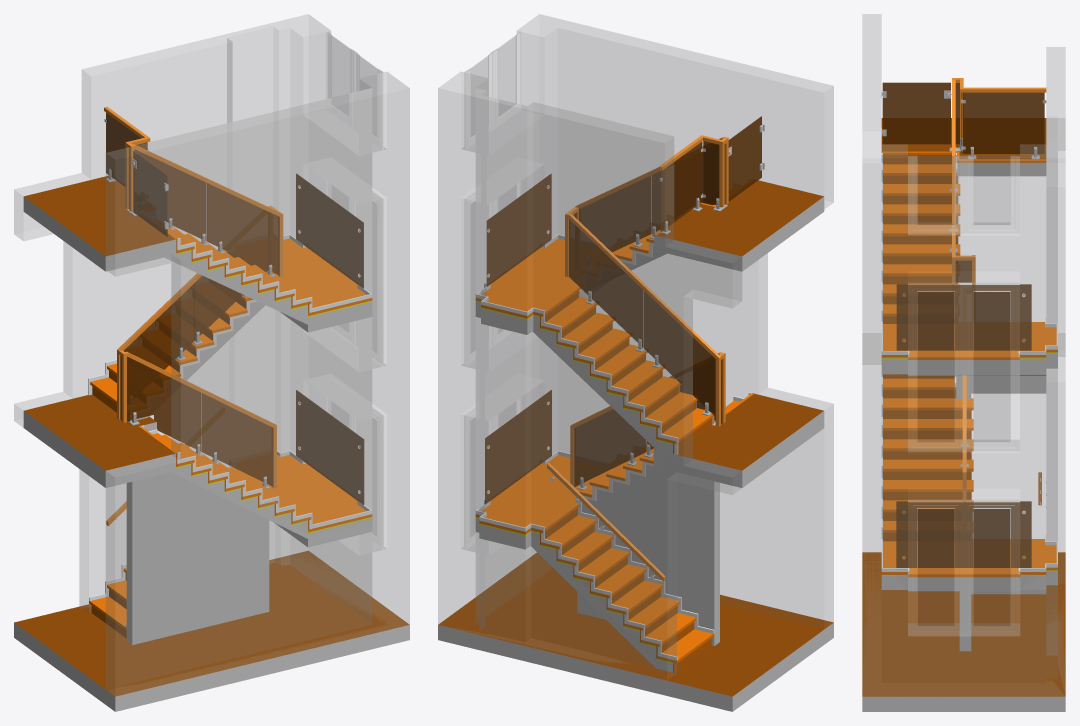
The model's file is 3D Сборка 1.obj.
3 views of the same model, side by side, from view 1: azimuth 30°, elevation 25°; view 2: azimuth 150°, elevation 25°; view 3: azimuth 270°, elevation 25° (orthographic).
Bounding box in the file's own units: 4.42 × 7.92 × 2.63.
